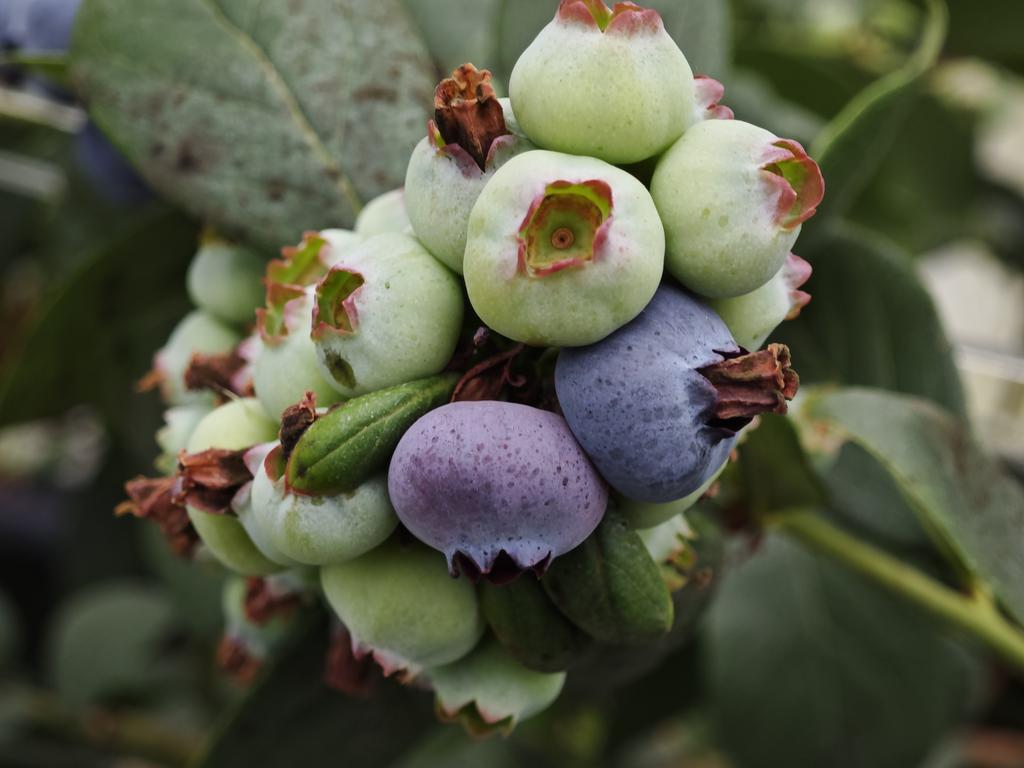RipeBlueBerry: (555, 287, 772, 507)
Semi-RipeBlueBerry: (384, 394, 611, 575)
UnripeBlueBerry: (459, 147, 666, 350)
